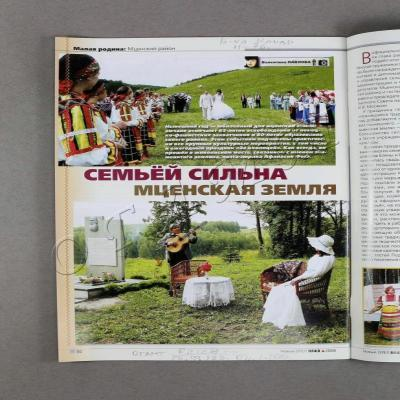rare_books: (54, 33, 400, 363)
